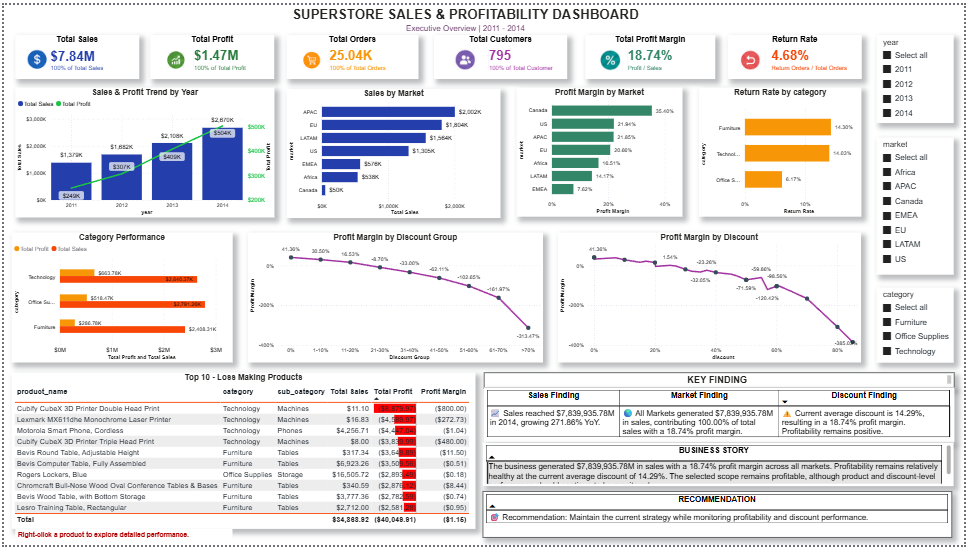

The dashboard page shown, as its layout file describes it:
{"tool":"powerbi","page":{"name":"FIX Executive Overview","canvas":[1920,1080],"ordinal":0},"visuals":[{"type":"textbox","box":[0,0,1846,40],"z":0},{"type":"textbox","box":[0,32,1846,28],"z":1000},{"type":"cardVisual","title":"Total Sales","fields":{"Data":["DimOrder.Total Sales"]},"box":[22,60,248,88],"z":2000},{"type":"cardVisual","title":"Total Profit","fields":{"Data":["DimOrder.Total Profit"]},"box":[292,60,248,88],"z":3000},{"type":"cardVisual","title":"Total Orders","fields":{"Data":["DimOrder.Total Orders"]},"box":[566,60,264,88],"z":4000},{"type":"cardVisual","title":"Total Customers","fields":{"Data":["DimOrder.Total Customers"]},"box":[860,60,266,88],"z":5000},{"type":"cardVisual","title":"Total Profit Margin","fields":{"Data":["DimOrder.Profit Margin"]},"box":[1162,60,260,88],"z":6000},{"type":"cardVisual","title":"Return Rate","fields":{"Data":["DimOrder.Return Rate"]},"box":[1448,60,268,88],"z":7000},{"type":"lineClusteredColumnComboChart","title":"Sales & Profit Trend by Year","fields":{"Category":["public orders.year"],"Y":["DimOrder.Total Sales"],"Y2":["DimOrder.Total Profit"]},"box":[22,166,518,260],"z":8000},{"type":"clusteredBarChart","title":"Sales by Market","fields":{"Y":["DimOrder.Total Sales"],"Category":["public orders.market"]},"box":[566,168,428,258],"z":9000},{"type":"clusteredBarChart","title":"Profit Margin by Market","fields":{"Y":["DimOrder.Profit Margin"],"Category":["public orders.market"]},"box":[1024,166,331.7,258.3],"z":10000},{"type":"clusteredBarChart","title":"Category Performance","fields":{"Y":["DimOrder.Total Profit","DimOrder.Total Sales"],"Category":["public orders.category"]},"box":[14,454,442,260],"z":11000},{"type":"lineChart","title":"Profit Margin by Discount","fields":{"Y":["DimOrder.Profit Margin"],"Category":["public orders.discount"]},"box":[1108,454,606,260],"z":12000},{"type":"clusteredBarChart","fields":{"Y":["DimOrder.Return Rate"],"Category":["public orders.category"]},"box":[1390,166,325,258.3],"z":13000},{"type":"tableEx","title":"Top 10 - Loss Making Products","fields":{"Values":["public orders.product_name","public orders.category","public orders.sub_category","DimOrder.Total Sales","DimOrder.Total Profit","DimOrder.Profit Margin"]},"box":[14.4,734.8,928.3,312.9],"z":14000},{"type":"lineChart","title":"Profit Margin by Discount Group","fields":{"Y":["DimOrder.Profit Margin"],"Category":["public orders.Discount Group"]},"box":[488,454,590,260],"z":15000},{"type":"slicer","fields":{"Values":["public orders.year"]},"box":[1744,60,154,176],"z":16000},{"type":"slicer","fields":{"Values":["public orders.market"]},"box":[1746,266,154,274],"z":17000},{"type":"slicer","fields":{"Values":["public orders.category"]},"box":[1744,564,154,150],"z":18000},{"type":"textbox","box":[22,1048,434,32],"z":19000},{"type":"textbox","box":[959.2,734.8,940.7,30.9],"z":20000},{"type":"tableEx","fields":{"Values":["DimOrder.Dynamic Sales Finding","DimOrder.Dynamic Market Finding","DimOrder.Dynamic Discount Finding"]},"box":[959.2,765.7,940.7,109.1],"z":21000},{"type":"tableEx","fields":{"Values":["DimOrder.Business Story"]},"box":[958.6,874.3,941.4,87.1],"z":22000},{"type":"tableEx","fields":{"Values":["DimOrder.Recommendation"]},"box":[958.6,971.4,938.6,92.9],"z":23000}]}

Visuals, with their boxes in screenshot pixels (x1, y1, x2, y2), scaled from the page's 1920x1080 canvas onto the 967x549 screenshot:
textbox: (0, 0, 930, 20)
textbox: (0, 16, 930, 30)
"Total Sales" cardVisual: (11, 30, 136, 75)
"Total Profit" cardVisual: (147, 30, 272, 75)
"Total Orders" cardVisual: (285, 30, 418, 75)
"Total Customers" cardVisual: (433, 30, 567, 75)
"Total Profit Margin" cardVisual: (585, 30, 716, 75)
"Return Rate" cardVisual: (729, 30, 864, 75)
"Sales & Profit Trend by Year" lineClusteredColumnComboChart: (11, 84, 272, 217)
"Sales by Market" clusteredBarChart: (285, 85, 501, 217)
"Profit Margin by Market" clusteredBarChart: (516, 84, 683, 216)
"Category Performance" clusteredBarChart: (7, 231, 230, 363)
"Profit Margin by Discount" lineChart: (558, 231, 863, 363)
clusteredBarChart - DimOrder.Return Rate x public orders.category: (700, 84, 864, 216)
"Top 10 - Loss Making Products" tableEx: (7, 374, 475, 533)
"Profit Margin by Discount Group" lineChart: (246, 231, 543, 363)
slicer - public orders.year: (878, 30, 956, 120)
slicer - public orders.market: (879, 135, 957, 274)
slicer - public orders.category: (878, 287, 956, 363)
textbox: (11, 533, 230, 548)
textbox: (483, 374, 957, 389)
tableEx - DimOrder.Dynamic Sales Finding x DimOrder.Dynamic Market Finding: (483, 389, 957, 445)
tableEx - DimOrder.Business Story: (483, 444, 957, 489)
tableEx - DimOrder.Recommendation: (483, 494, 956, 541)
